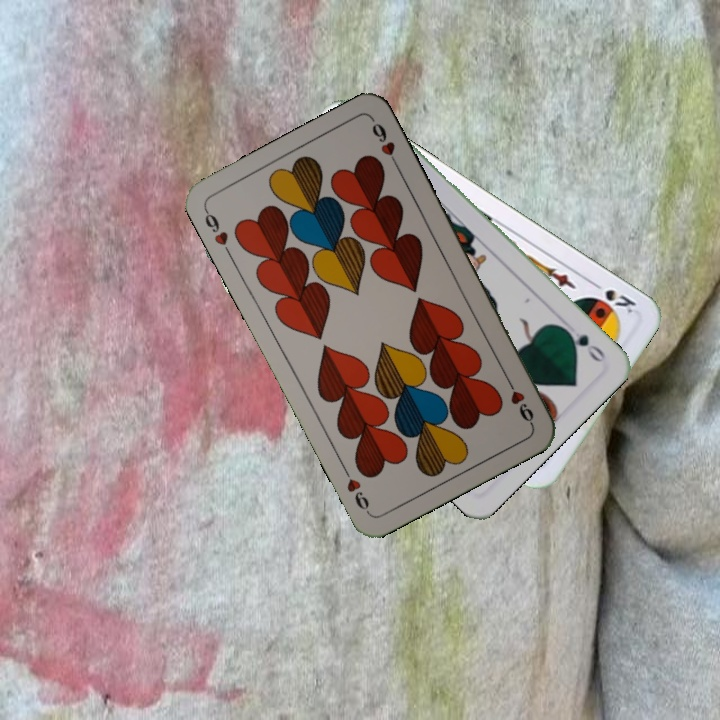GO: (558, 319, 608, 366)
H9: (501, 373, 537, 428), (200, 205, 231, 248)
SK: (586, 276, 639, 316)
